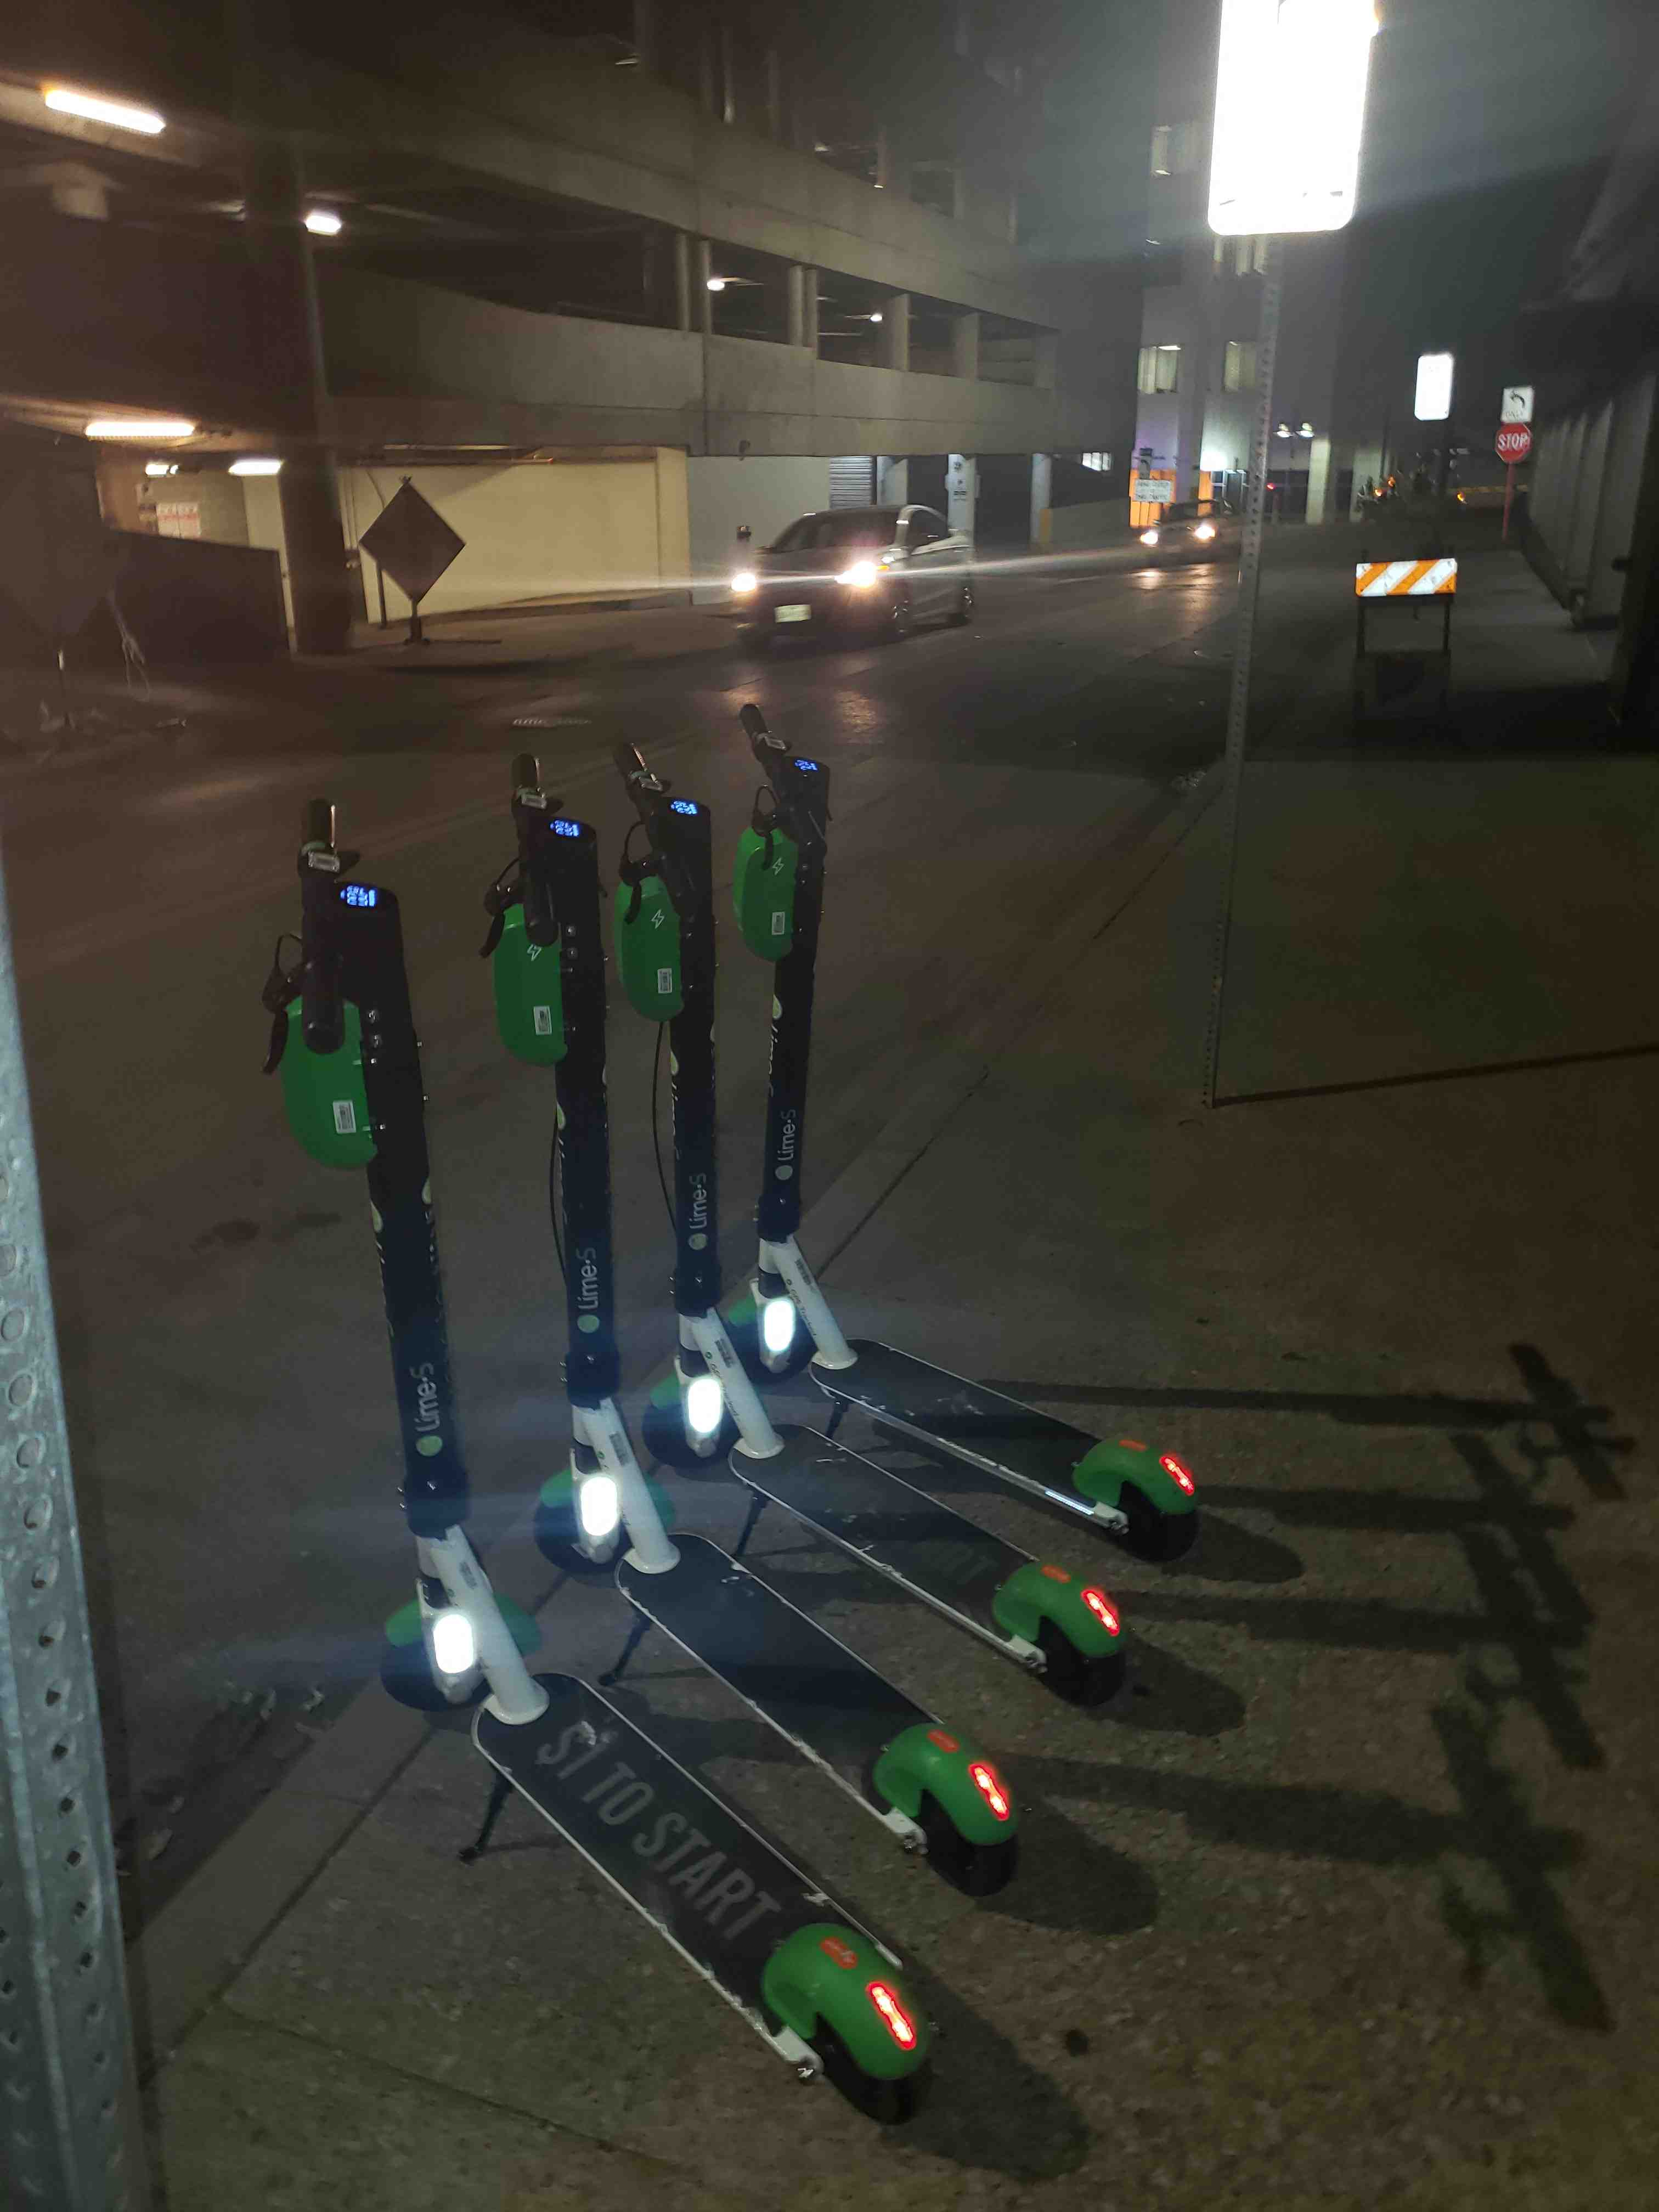too close: (314, 1564, 568, 1784), (587, 1331, 826, 1517), (688, 1235, 913, 1404), (495, 1444, 699, 1629)
